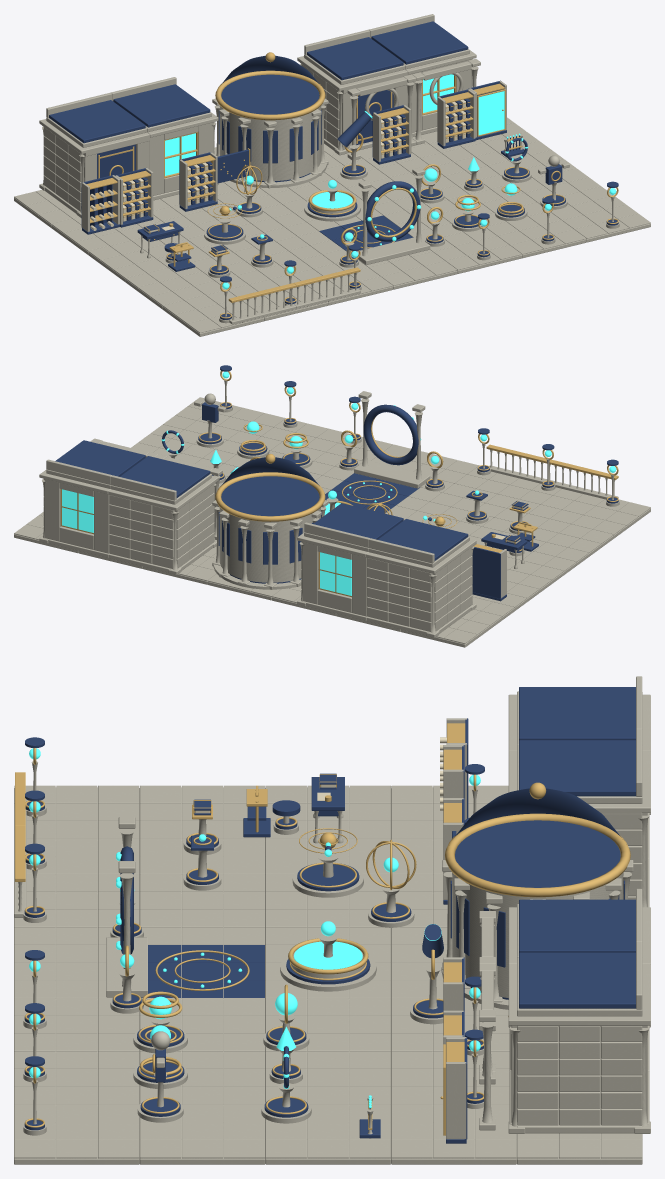
The model's file is arcane-academy-and-spell-trials-celestia-3db3a107-starter-scene__28311.glb.
3 views of the same model, one above another, from view 1: azimuth 30°, elevation 25°; view 2: azimuth 150°, elevation 25°; view 3: azimuth 270°, elevation 25° (orthographic). The views are drawn at different scales.
Visible parts, largest first — view 1: 059-observatory-dome-pavilion/1, 059-observatory-dome-pavilion/0, 039-academy-wall/0, 034-courtyard-floor/0, 029-courtyard-floor/0, 041-roof-end/1, 053-roof-end/1, 003-courtyard-floor/0, 004-courtyard-floor/0, 054-roof-end/1, 042-roof-end/1, 024-courtyard-floor/0 (+64 smaller); view 2: 059-observatory-dome-pavilion/1, 059-observatory-dome-pavilion/0, 035-academy-wall/0, 047-academy-wall/0, 048-window-bay/0, 036-window-bay/0, 039-academy-wall/0, 051-academy-wall/0, 004-courtyard-floor/0, 003-courtyard-floor/0, 013-courtyard-floor/0, 009-courtyard-floor/0 (+37 smaller); view 3: 052-academy-wall/0, 059-observatory-dome-pavilion/1, 034-courtyard-floor/0, 033-courtyard-floor/0, 054-roof-end/1, 013-courtyard-floor/0, 032-courtyard-floor/0, 053-roof-end/1, 042-roof-end/1, 031-courtyard-floor/0, 041-roof-end/1, 029-courtyard-floor/0 (+53 smaller).
Boxes of the visible parts, box(x1,y1,x2,y2) form: 059-observatory-dome-pavilion/1: box(218, 55, 321, 182); 059-observatory-dome-pavilion/0: box(212, 98, 328, 188); 039-academy-wall/0: box(42, 122, 83, 213); 034-courtyard-floor/0: box(551, 196, 650, 242); 029-courtyard-floor/0: box(486, 212, 586, 258); 041-roof-end/1: box(49, 100, 145, 143); 053-roof-end/1: box(307, 37, 403, 80); 003-courtyard-floor/0: box(125, 267, 226, 309); 004-courtyard-floor/0: box(163, 291, 263, 336); 054-roof-end/1: box(371, 21, 468, 64); 042-roof-end/1: box(113, 84, 210, 127); 024-courtyard-floor/0: box(430, 228, 521, 273); 059-observatory-dome-pavilion/1: box(218, 457, 321, 583); 059-observatory-dome-pavilion/0: box(212, 500, 328, 589); 035-academy-wall/0: box(366, 552, 432, 635); 047-academy-wall/0: box(108, 489, 174, 572); 048-window-bay/0: box(44, 473, 110, 557); 036-window-bay/0: box(302, 536, 368, 620); 039-academy-wall/0: box(432, 541, 473, 633); 051-academy-wall/0: box(175, 478, 216, 570); 004-courtyard-floor/0: box(550, 494, 650, 538); 003-courtyard-floor/0: box(528, 519, 613, 565); 013-courtyard-floor/0: box(385, 487, 484, 529); 009-courtyard-floor/0: box(485, 478, 582, 518); 052-academy-wall/0: box(517, 1016, 642, 1133); 059-observatory-dome-pavilion/1: box(450, 788, 624, 999); 034-courtyard-floor/0: box(14, 1104, 139, 1164); 033-courtyard-floor/0: box(139, 1104, 265, 1164); 054-roof-end/1: box(519, 952, 635, 1008); 013-courtyard-floor/0: box(139, 892, 265, 946); 032-courtyard-floor/0: box(265, 1104, 391, 1164); 053-roof-end/1: box(519, 899, 635, 952); 042-roof-end/1: box(519, 740, 635, 796); 031-courtyard-floor/0: box(391, 1104, 516, 1164); 041-roof-end/1: box(519, 687, 635, 740); 029-courtyard-floor/0: box(14, 1051, 139, 1106).
Bounding box in the file's own units: 21 × 5.16 × 15.2.
Materials: 5 (1 with a texture image).
